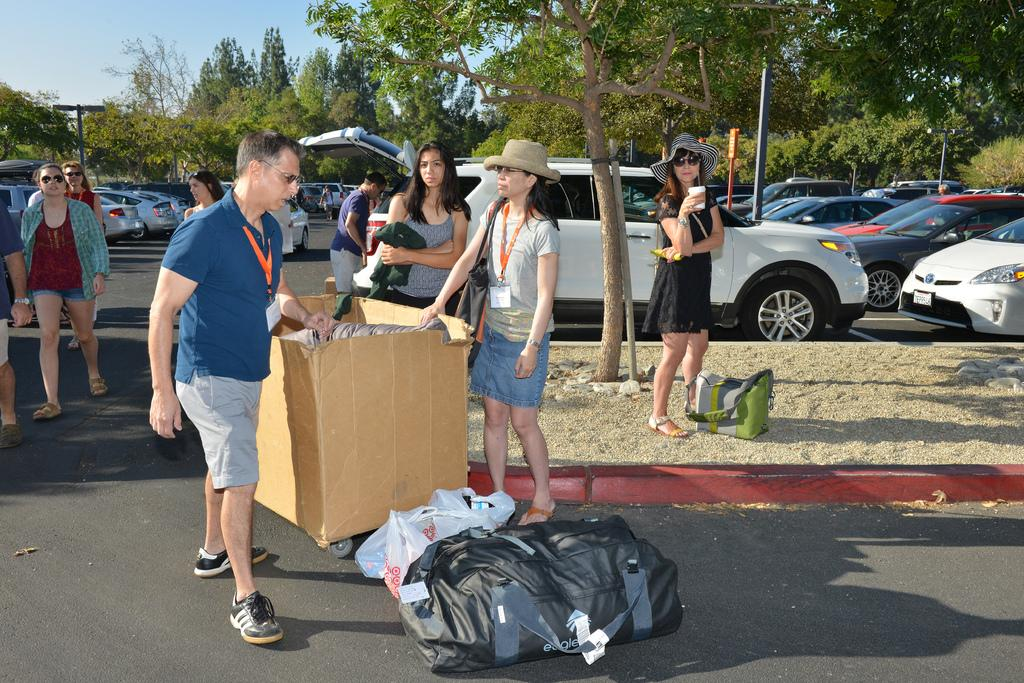Luggage-and-bags: (378, 509, 697, 670)
